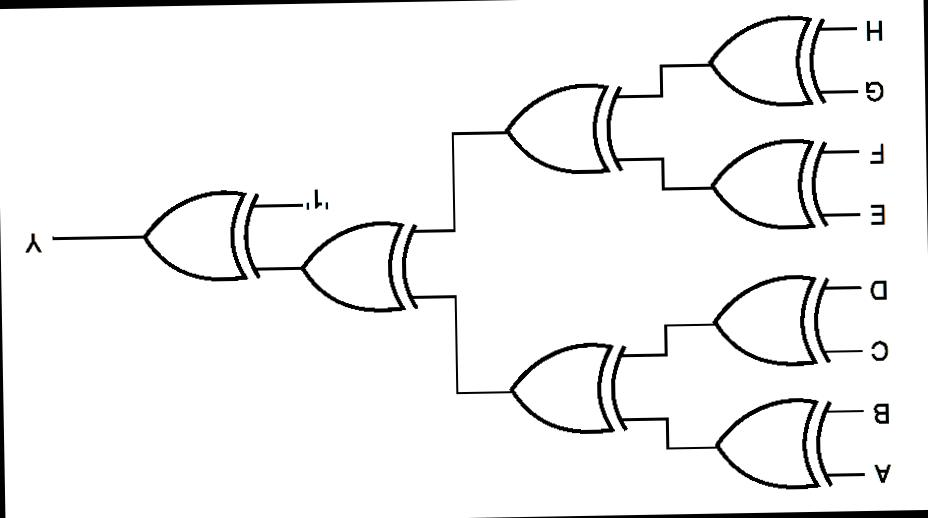xor: (700, 265, 852, 376), (702, 390, 854, 497), (289, 212, 430, 323), (696, 130, 840, 238), (497, 336, 642, 441), (133, 182, 268, 294), (494, 74, 634, 182), (694, 8, 838, 112)
